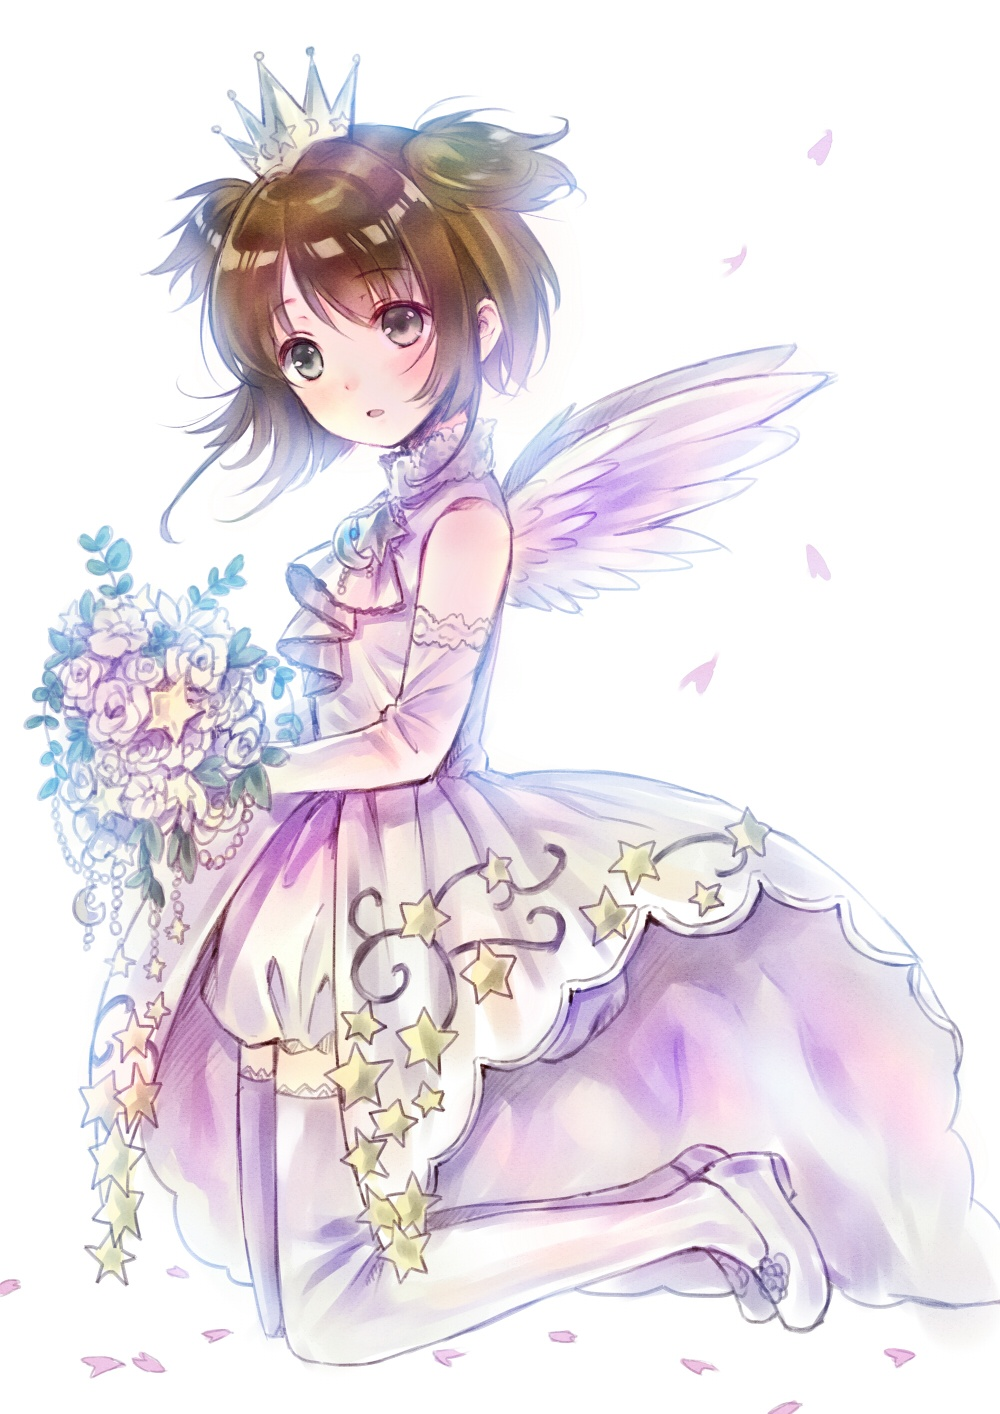纸片人正脸: (193, 112, 556, 464)
